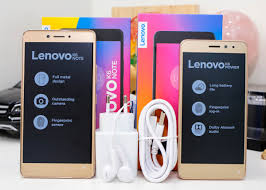lenovo: (19, 26, 98, 180), (174, 38, 249, 186)
